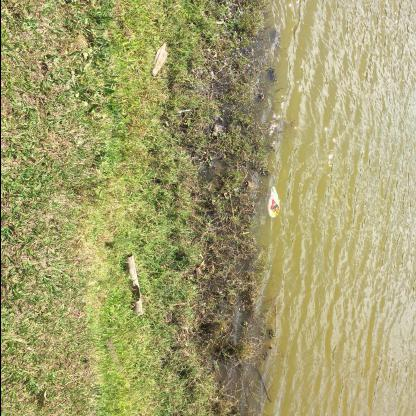diger: (123, 253, 143, 317), (150, 42, 167, 76)
plastik: (267, 186, 279, 218)
